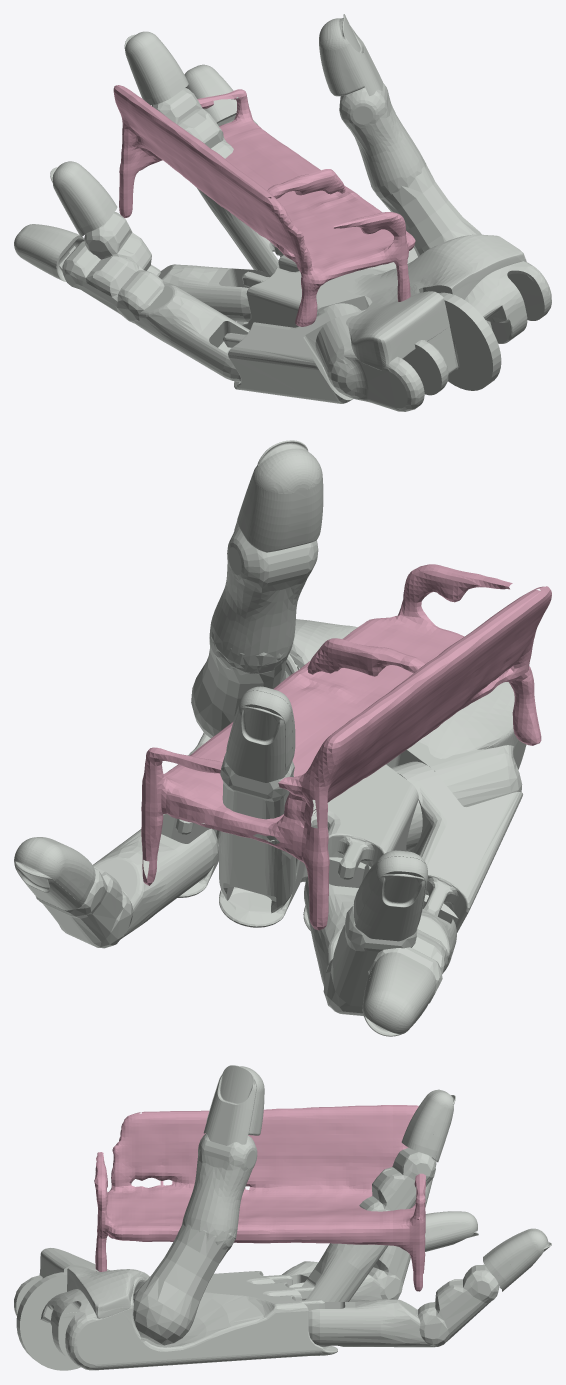
3 views of the same model, one above another, from view 1: azimuth 30°, elevation 25°; view 2: azimuth 150°, elevation 25°; view 3: azimuth 270°, elevation 25° (orthographic). The views are drawn at different scales.
Parts seen in each view (by area): view 1: hand_isaac_q, world; view 2: hand_isaac_q, world; view 3: hand_isaac_q, world.
Boxes of the visible parts, box(x1,y1,x2,y2) form: hand_isaac_q: box(14, 14, 551, 411); world: box(113, 85, 415, 326); hand_isaac_q: box(14, 440, 526, 1036); world: box(141, 564, 551, 930); hand_isaac_q: box(14, 1065, 551, 1370); world: box(94, 1105, 425, 1291).
Bounding box in the file's own units: 0.1407 × 0.1427 × 0.2126.
